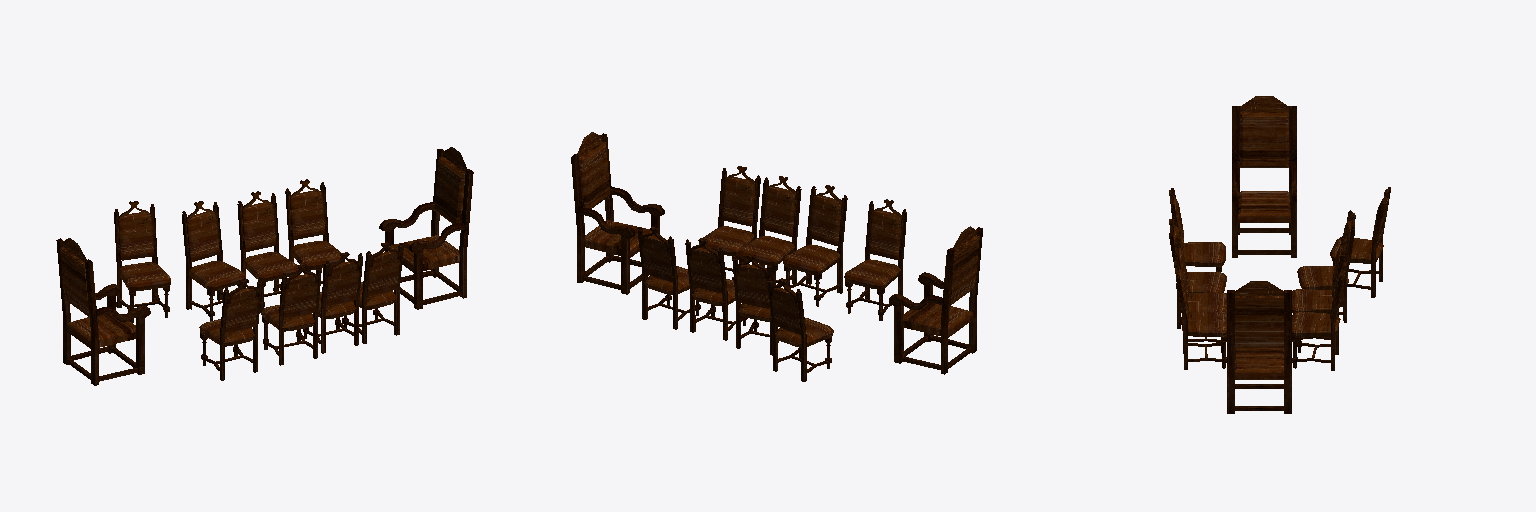
The picture shows the model from 3 angles: view 1: azimuth 30°, elevation 25°; view 2: azimuth 150°, elevation 25°; view 3: azimuth 270°, elevation 25°; orthographic projection.
Parts seen in each view (by area): view 1: Kitchen_GEO_GRP1_Kichen_Table_Chairs; view 2: Kitchen_GEO_GRP1_Kichen_Table_Chairs; view 3: Kitchen_GEO_GRP1_Kichen_Table_Chairs.
Boxes of the visible parts, x1,y1,x2,y2 form: Kitchen_GEO_GRP1_Kichen_Table_Chairs: [56, 147, 473, 385]; Kitchen_GEO_GRP1_Kichen_Table_Chairs: [571, 132, 982, 381]; Kitchen_GEO_GRP1_Kichen_Table_Chairs: [1169, 96, 1390, 413].
Size of the model in its own units: 4.49 by 1.51 by 2.26.
1 materials, 1 textured.